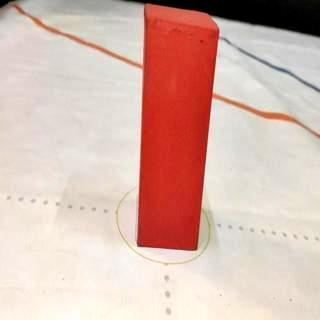redbox: (135, 3, 220, 250)
